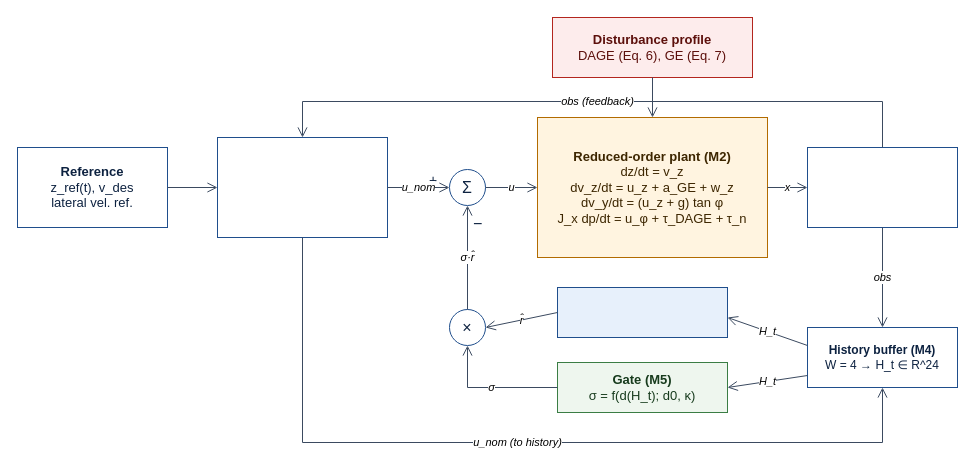
Image size: 975x470. Some labels were removed from this diagram. The shapes that lost their labels are listed below. From the top down, each one's box as (x1, y1, x2, y2) in pixels, then its label:
(216, 136, 388, 238): Cascaded PID (M3) vertical PID lateral outer loop roll PID (Eq. 8)
(806, 146, 958, 228): Sensors (M2) + Gaussian noise
(556, 286, 728, 338): Residual MLP (M4) 24-64-64-32-2, tanh
